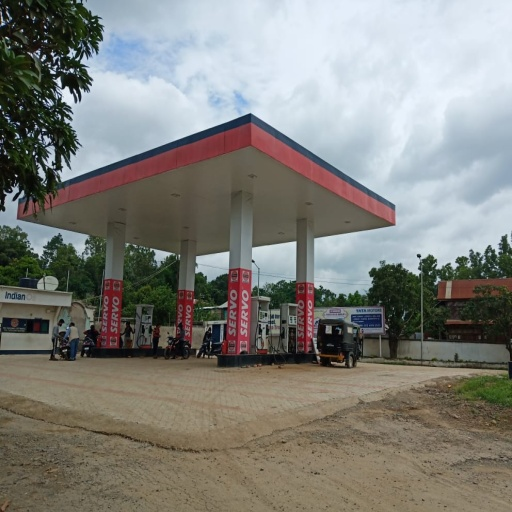roof: (11, 119, 397, 249)
